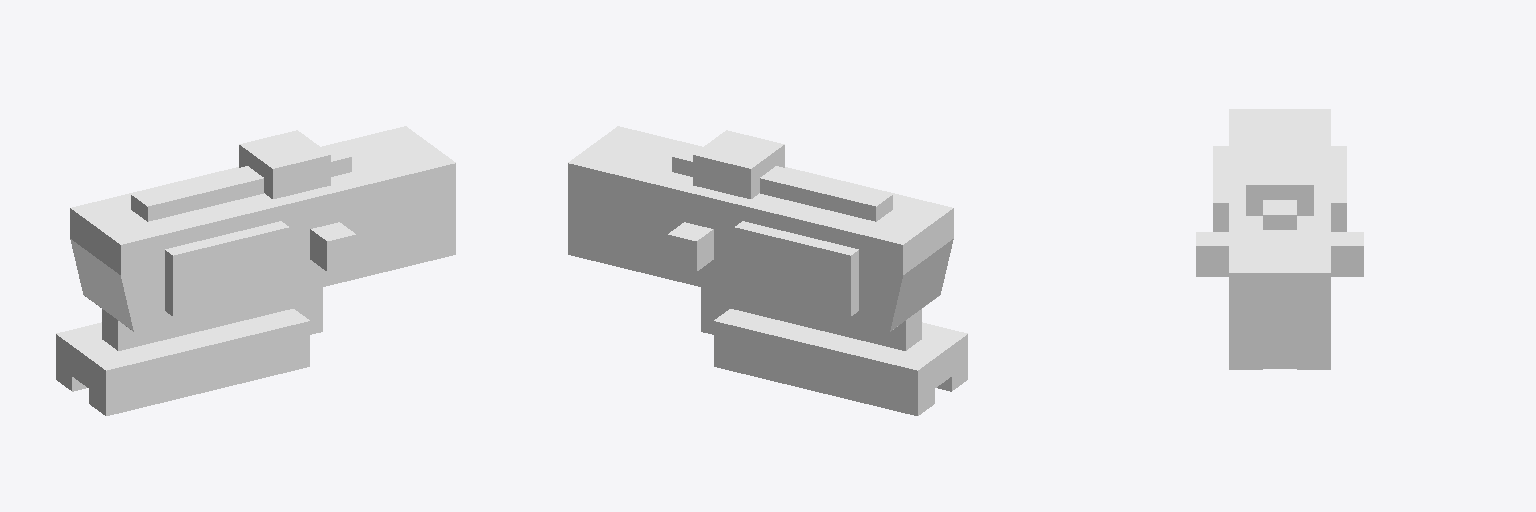
The model's file is acog_sight.obj.
3 renders of one model, left to right at view 1: azimuth 30°, elevation 25°; view 2: azimuth 150°, elevation 25°; view 3: azimuth 270°, elevation 25°, orthographic.
Visible parts, largest first — view 1: Shape5, Shape2, Shape12, Shape3, Shape9, Shape6, Shape1, Shape10, Shape11, Shape7; view 2: Shape5, Shape2, Shape13, Shape4, Shape9, Shape6, Shape1, Shape10, Shape11, Shape8; view 3: Shape5, Shape6, Shape9, Shape7, Shape8, Shape12, Shape13, Shape10.
Boxes of the visible parts, <box> form: Shape5: <box>85,126,455,332</box>; Shape2: <box>56,309,309,400</box>; Shape12: <box>165,221,289,316</box>; Shape3: <box>89,336,309,415</box>; Shape9: <box>131,145,351,221</box>; Shape6: <box>239,130,330,198</box>; Shape1: <box>102,287,322,350</box>; Shape10: <box>70,201,148,274</box>; Shape11: <box>70,239,160,331</box>; Shape7: <box>310,222,356,271</box>; Shape5: <box>568,126,938,332</box>; Shape2: <box>714,309,967,400</box>; Shape13: <box>734,221,858,316</box>; Shape4: <box>714,336,934,415</box>; Shape9: <box>672,145,892,221</box>; Shape6: <box>693,130,784,198</box>; Shape1: <box>701,287,921,350</box>; Shape10: <box>876,201,953,274</box>; Shape11: <box>868,239,953,331</box>; Shape8: <box>667,222,713,271</box>; Shape5: <box>1229,116,1330,363</box>; Shape6: <box>1246,157,1313,215</box>; Shape9: <box>1263,115,1296,229</box>; Shape7: <box>1196,232,1228,276</box>; Shape8: <box>1331,232,1363,276</box>; Shape12: <box>1213,146,1228,231</box>; Shape13: <box>1331,146,1346,231</box>; Shape10: <box>1229,109,1330,115</box>.
Size of the model in its own units: 0.75 by 0.4062 by 0.3125.